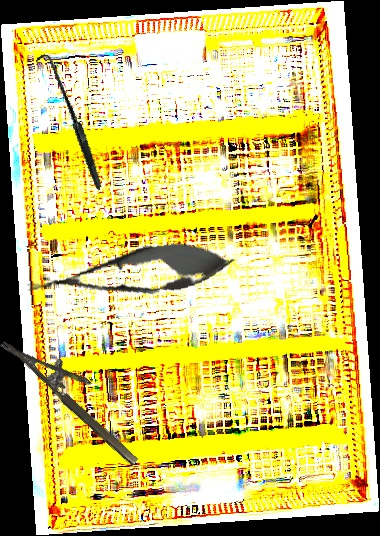Hook Surgical: (2, 52, 136, 192)
Micro Scissor: (21, 233, 239, 314)
Needle Holder: (0, 319, 155, 468)
